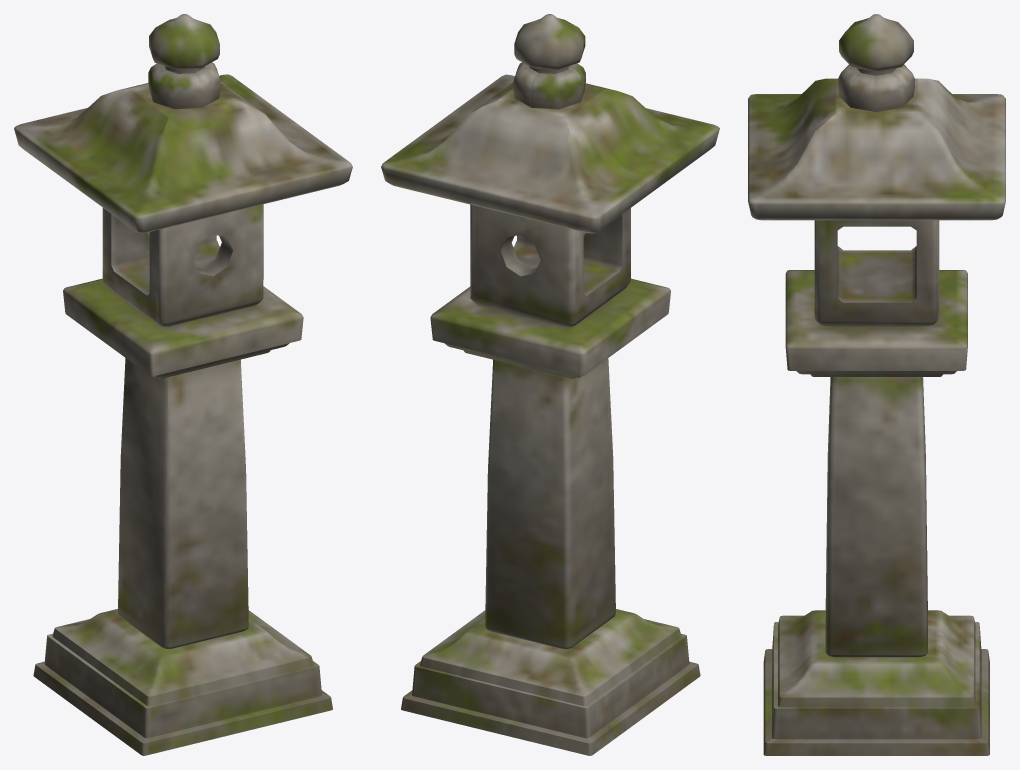
Rendered from lantern1.gltf.
The picture shows the model from 3 angles, left to right: view 1: azimuth 30°, elevation 25°; view 2: azimuth 150°, elevation 25°; view 3: azimuth 270°, elevation 25°; orthographic projection. The views are drawn at different scales.
Visible parts, largest first — view 1: Lantern_Stone_A1; view 2: Lantern_Stone_A1; view 3: Lantern_Stone_A1.
Boxes of the visible parts, box(x1,y1,x2,y2) form: Lantern_Stone_A1: box(14, 14, 352, 755); Lantern_Stone_A1: box(381, 14, 719, 755); Lantern_Stone_A1: box(748, 14, 1005, 755).
Bounding box in the file's own units: 0.5812 × 1.72 × 0.5812.
1 material, 1 textured.
